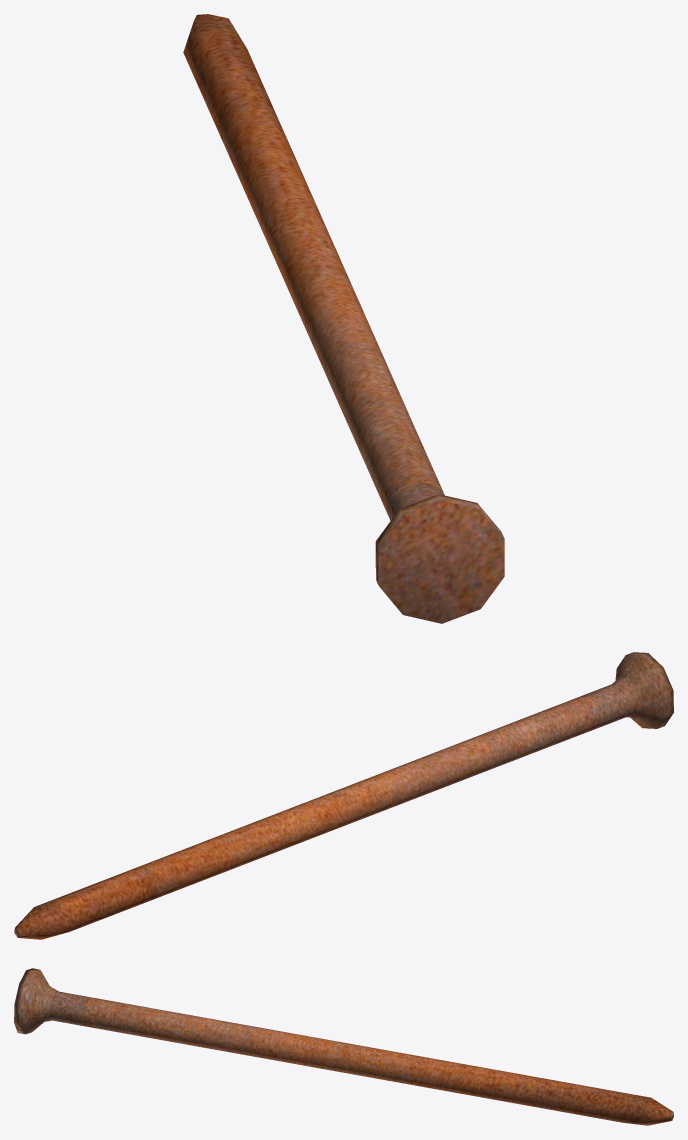
Rendered from nail.fbx.
The picture shows the model from 3 angles, top to bottom: view 1: azimuth 30°, elevation 25°; view 2: azimuth 150°, elevation 25°; view 3: azimuth 270°, elevation 25°; orthographic projection. The views are drawn at different scales.
Visible parts, largest first — view 1: polySurface9; view 2: polySurface9; view 3: polySurface9.
Boxes of the visible parts, left/top/right/bottom form: polySurface9: left=183, top=14, right=504, bottom=623; polySurface9: left=14, top=652, right=673, bottom=939; polySurface9: left=14, top=968, right=673, bottom=1125.
Size of the model in its own units: 3.19 by 0.7962 by 7.79.
1 material, 1 textured.
